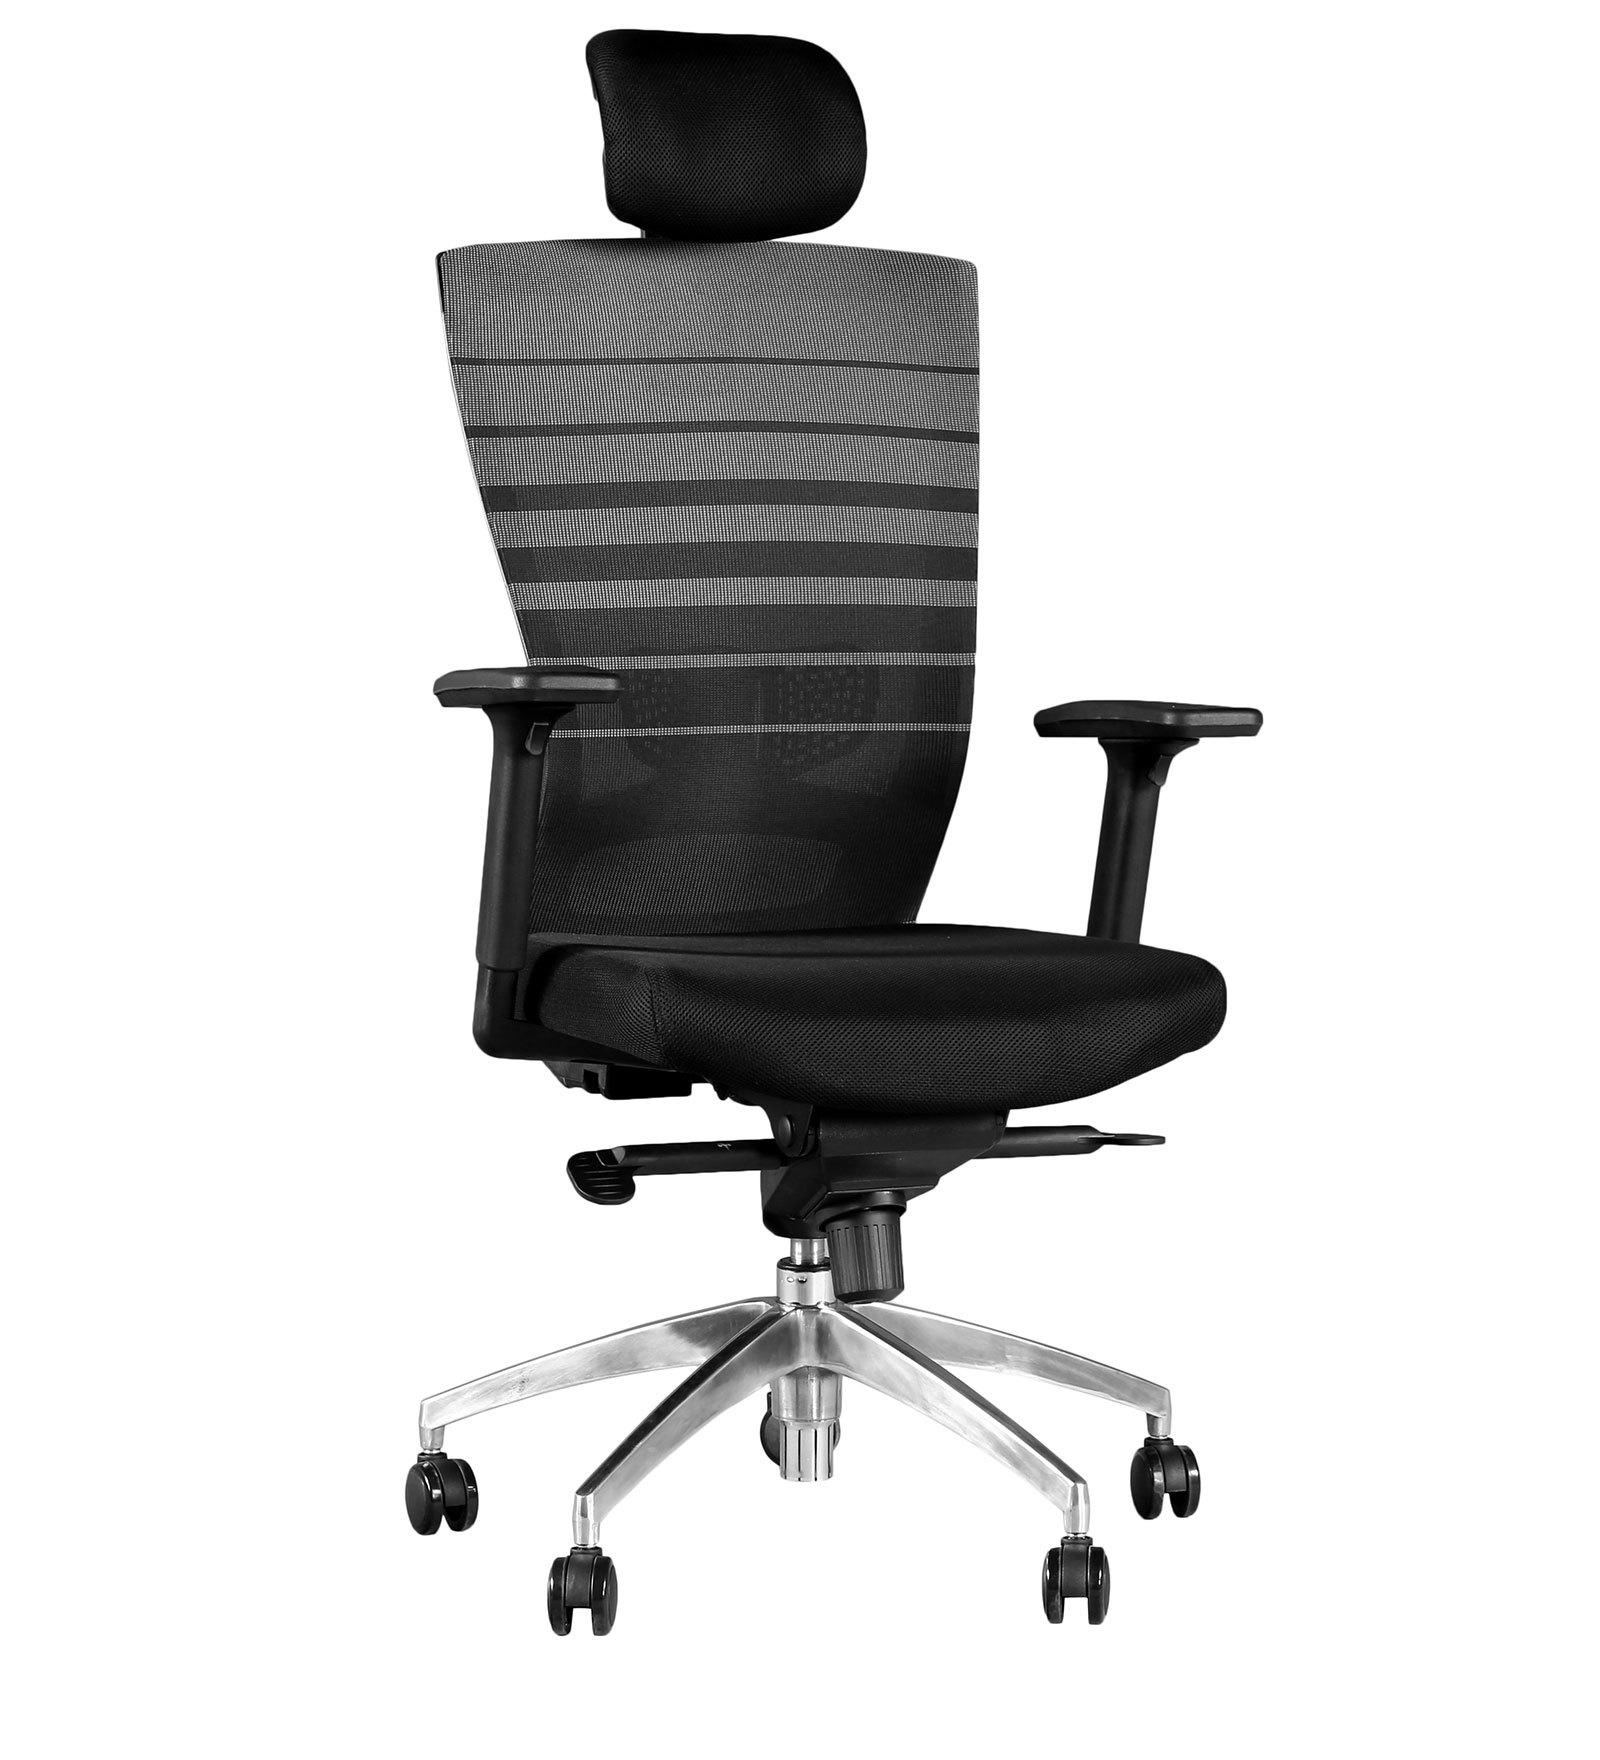Ergo High Back Ergonomic Chair in Black Colour by HomeTown: (356, 15, 1277, 1703)
